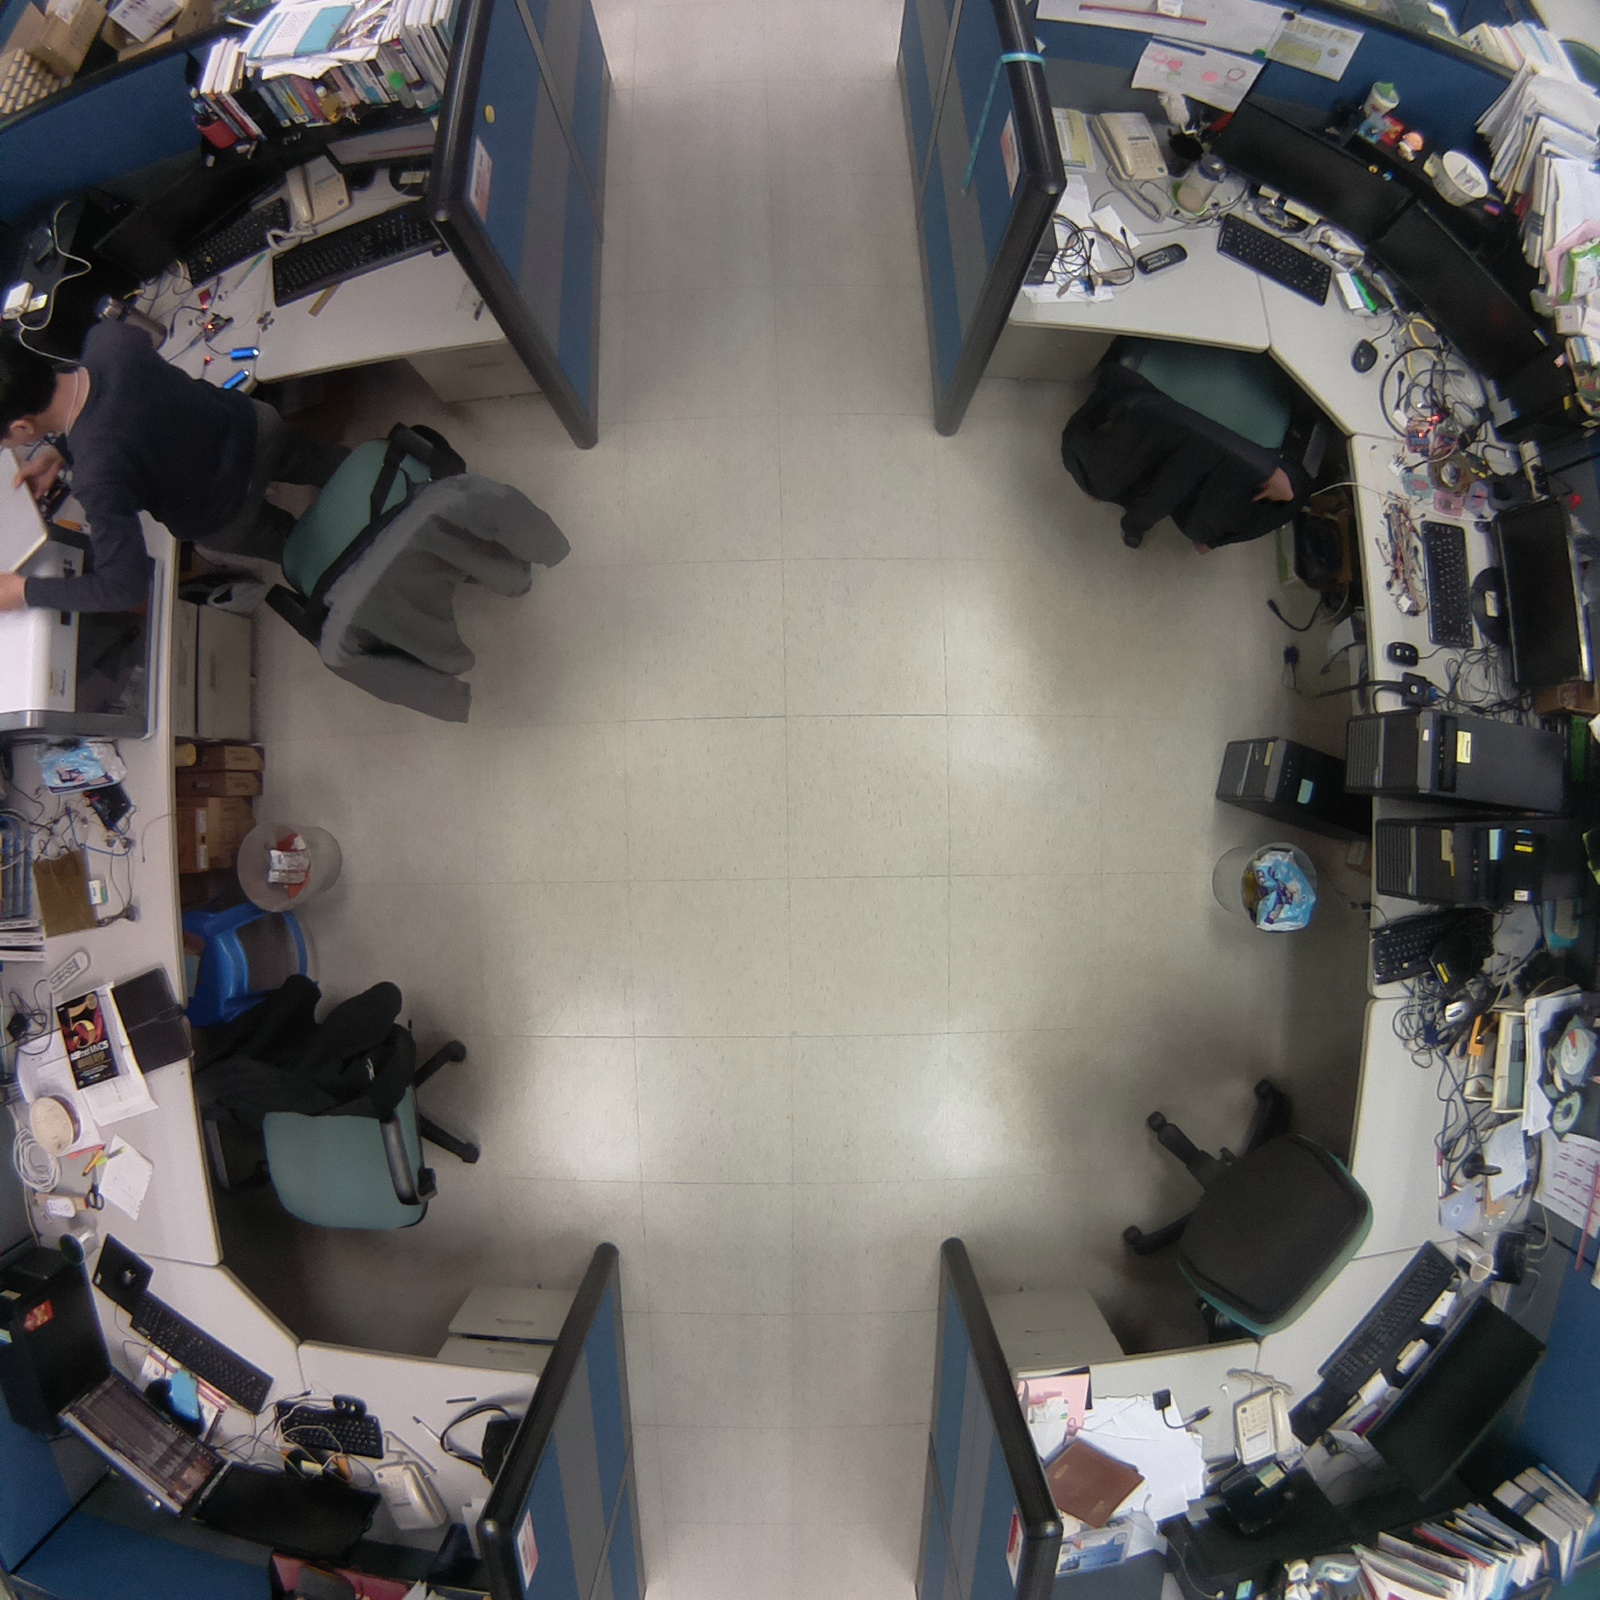chair: (191, 955, 496, 1258), (1076, 1065, 1388, 1360), (1045, 319, 1329, 578)
head: (1, 327, 63, 448)
sitting: (1, 312, 588, 752)
